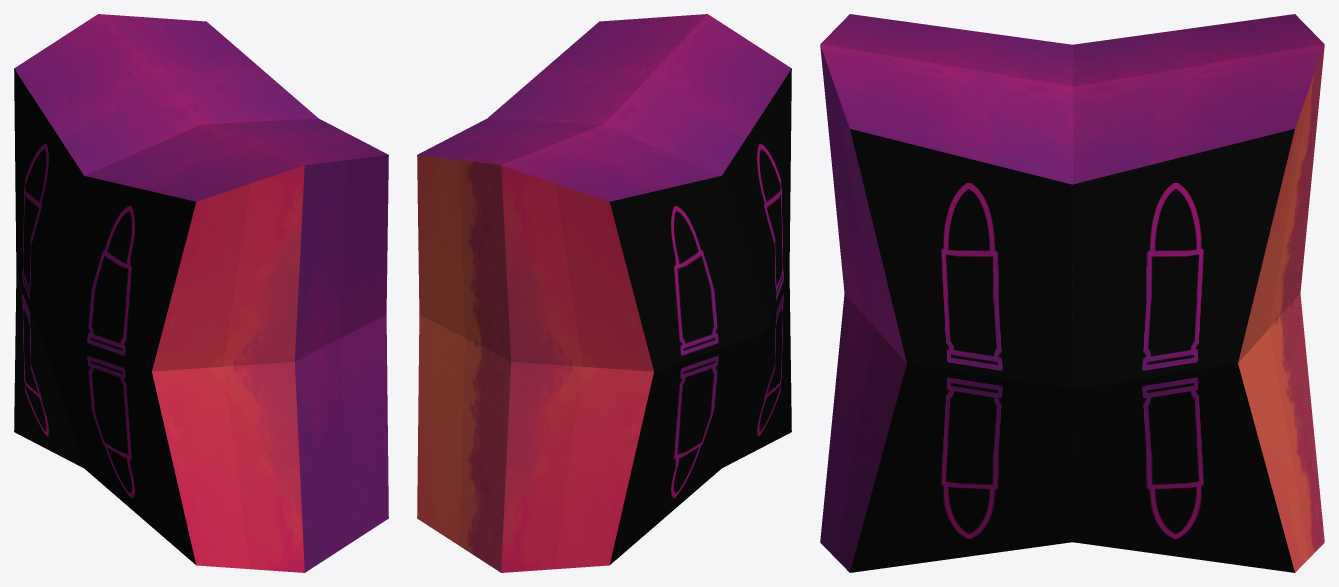
The model's file is BonusAmmoOld.fbx.
3 renders of one model, left to right at view 1: azimuth 30°, elevation 25°; view 2: azimuth 150°, elevation 25°; view 3: azimuth 270°, elevation 25°, orthographic. The views are drawn at different scales.
Visible parts, largest first — view 1: Куб; view 2: Куб; view 3: Куб.
Part boxes in pixels (bbox=[...]): Куб: bbox=[14, 14, 388, 572]; Куб: bbox=[417, 14, 791, 572]; Куб: bbox=[820, 14, 1324, 572].
Bounding box in the file's own units: 223 × 269 × 247.
